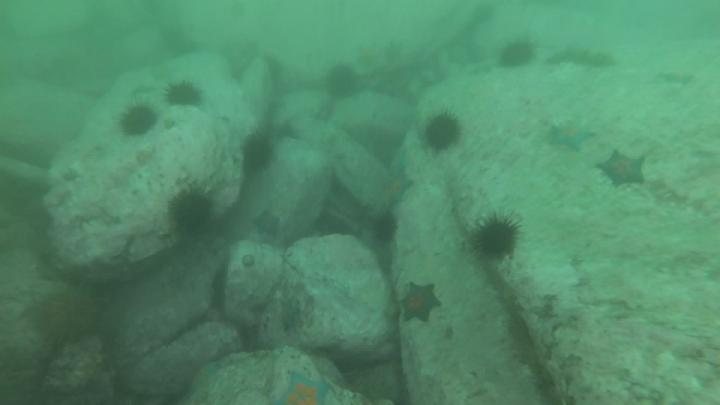echinus: (464, 212, 522, 264), (167, 187, 219, 238), (422, 107, 463, 156), (322, 63, 363, 104), (117, 101, 161, 139), (238, 132, 275, 177), (163, 80, 207, 112), (497, 41, 536, 73), (374, 211, 399, 246)
holothurian: (553, 44, 617, 71)
starfish: (596, 147, 651, 190), (271, 369, 335, 405), (395, 281, 444, 327), (546, 120, 596, 152), (383, 166, 418, 207), (251, 208, 285, 240)
